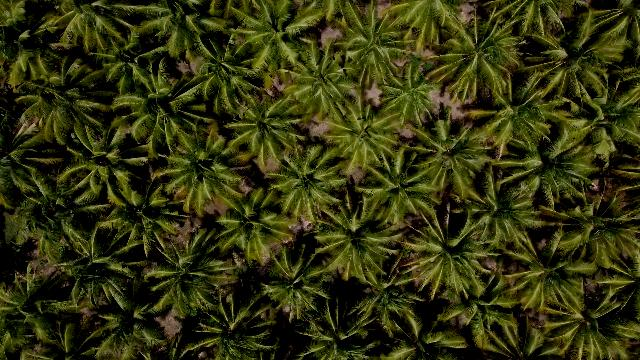trees: (515, 256, 638, 360), (527, 8, 635, 113), (401, 209, 495, 305), (439, 8, 532, 104), (426, 267, 525, 357), (117, 60, 207, 158), (16, 72, 121, 155), (330, 7, 419, 104), (8, 156, 93, 257), (540, 190, 638, 275), (316, 197, 402, 291), (411, 114, 496, 207), (508, 127, 597, 215), (156, 134, 243, 223), (143, 234, 232, 321), (204, 181, 293, 267), (355, 140, 443, 226), (184, 30, 267, 118), (278, 40, 359, 130), (56, 226, 141, 311), (100, 178, 184, 263), (470, 78, 557, 160), (229, 88, 316, 168), (2, 269, 80, 357), (257, 246, 336, 328), (90, 284, 174, 360), (190, 292, 281, 360), (136, 4, 229, 70), (271, 146, 346, 226), (298, 295, 387, 360), (328, 102, 400, 177), (378, 60, 444, 133), (585, 74, 640, 159), (62, 5, 136, 59), (387, 2, 464, 52), (478, 2, 554, 48), (8, 43, 74, 93), (596, 316, 640, 355), (3, 3, 38, 38)
